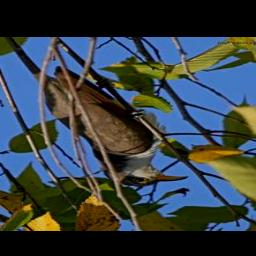Cuckoo: (42, 66, 225, 187)
